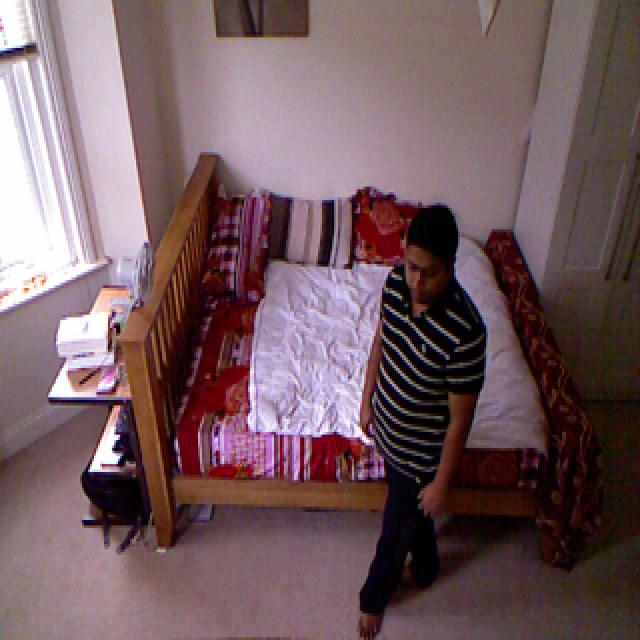standing: (357, 205, 480, 637)
